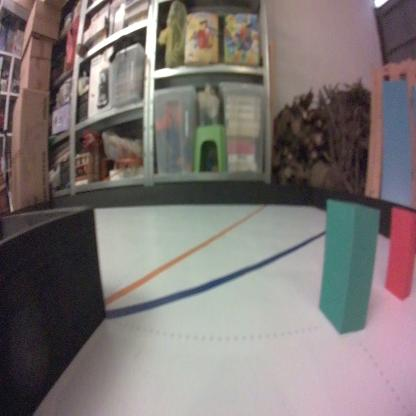green: (316, 193, 380, 334)
red: (383, 204, 416, 304)
